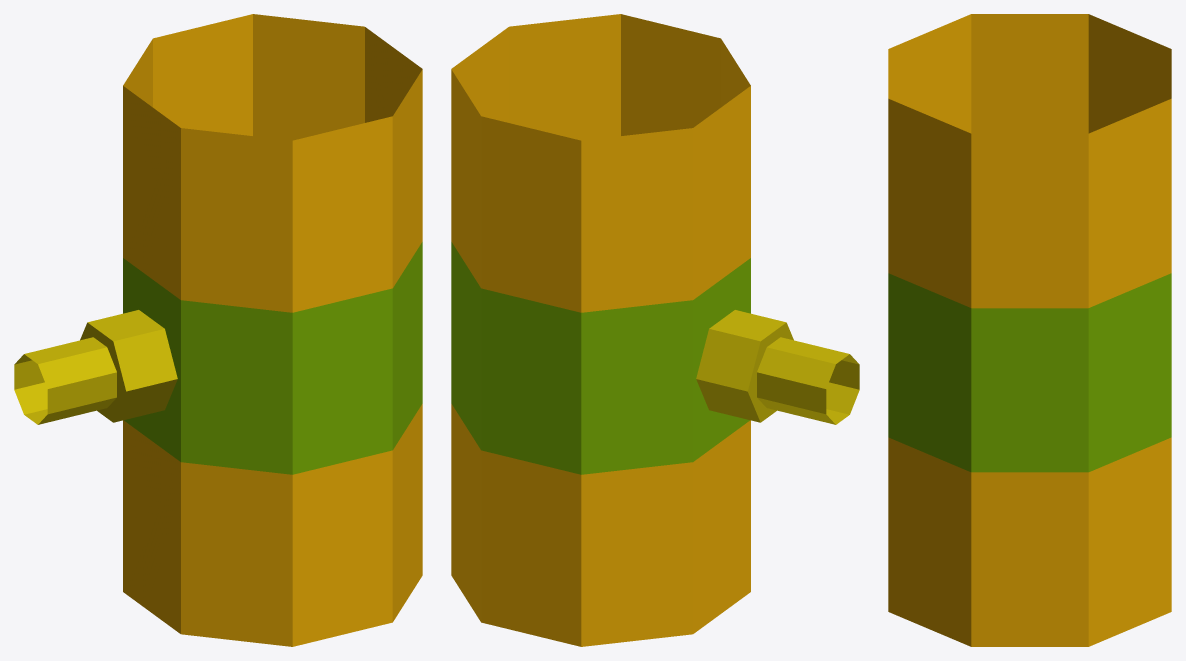
The model's file is fpe_fluid_line_adapter_t.dae.
3 views of the same model, side by side, from view 1: azimuth 30°, elevation 25°; view 2: azimuth 150°, elevation 25°; view 3: azimuth 270°, elevation 25° (orthographic).
Parts seen in each view (by area): view 1: fluid_line_adapter_t; view 2: fluid_line_adapter_t; view 3: fluid_line_adapter_t.
Boxes of the visible parts, <box> form: fluid_line_adapter_t: <box>14,14,422,646</box>; fluid_line_adapter_t: <box>451,14,859,646</box>; fluid_line_adapter_t: <box>888,14,1171,646</box>.
Size of the model in its own units: 0.1875 by 0.125 by 0.25.
